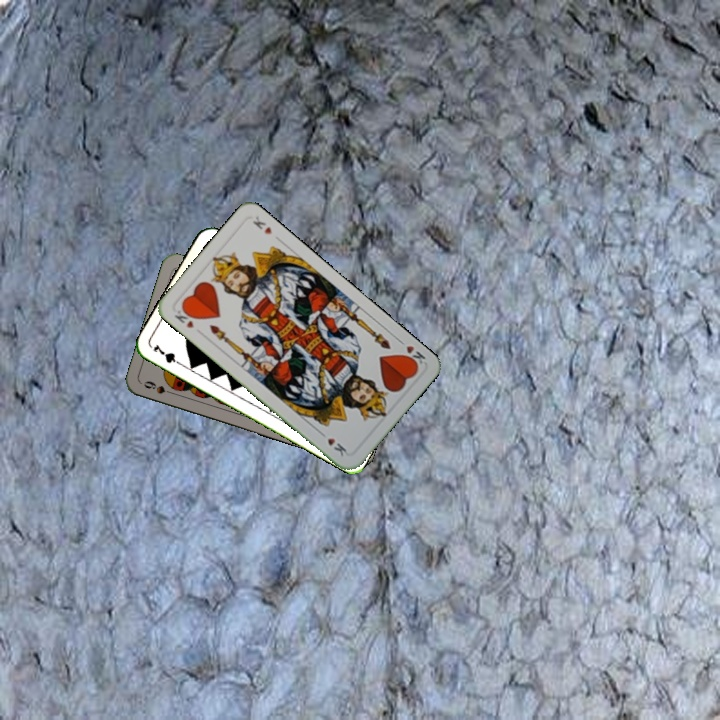G7: (148, 340, 186, 369)
HK: (394, 335, 428, 370), (170, 306, 196, 331)
S9: (140, 377, 179, 398)
